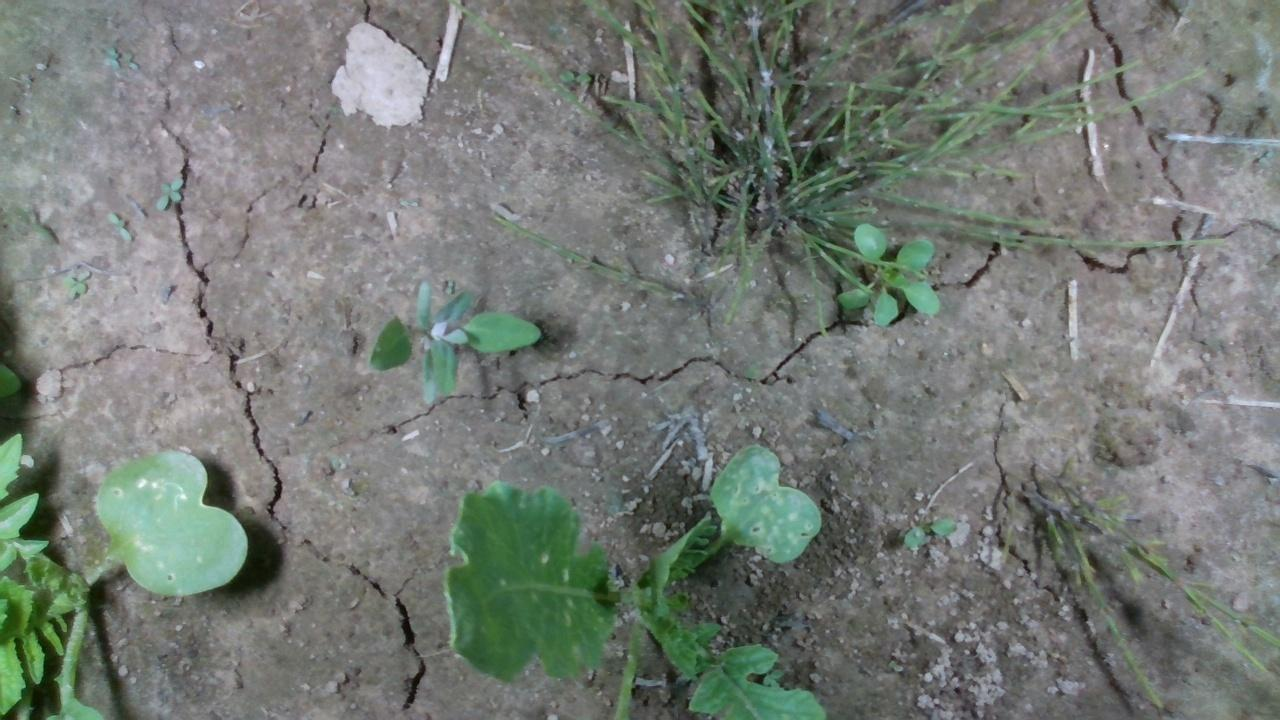weed: (900, 514, 956, 550), (153, 174, 184, 213), (104, 209, 133, 247), (61, 265, 91, 301)
